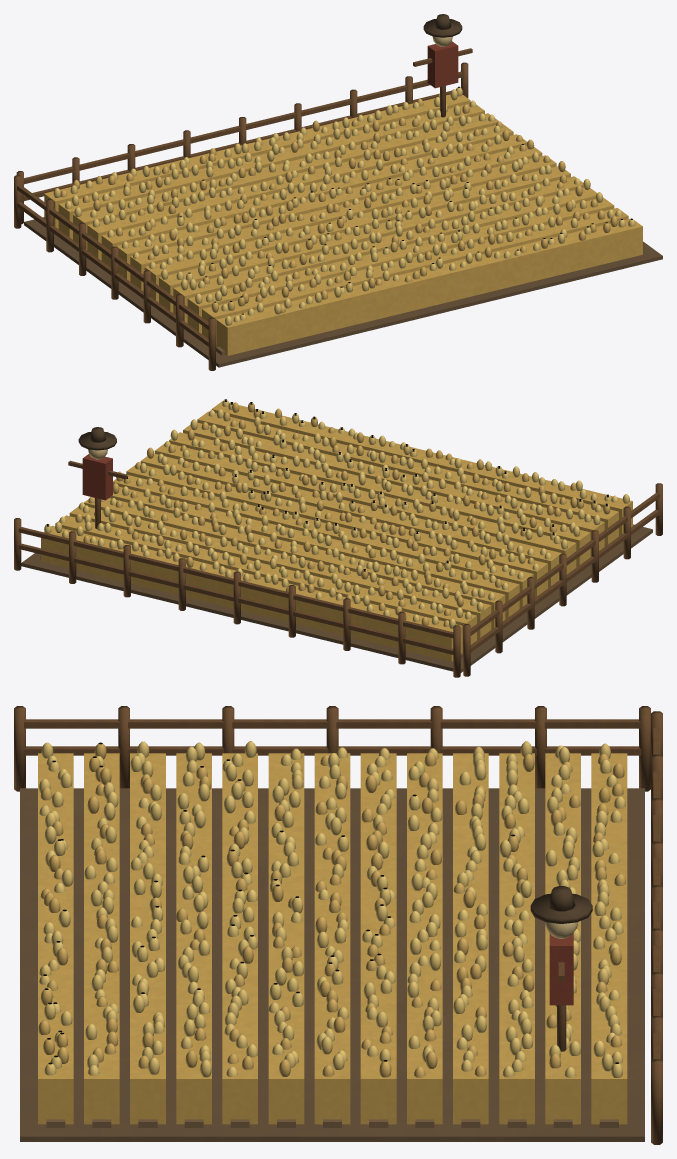
The model's file is field_ripe.glb.
3 renders of one model, top to bottom at view 1: azimuth 30°, elevation 25°; view 2: azimuth 150°, elevation 25°; view 3: azimuth 270°, elevation 25°, orthographic. The views are drawn at different scales.
Visible parts, largest first — view 1: field_ripe; view 2: field_ripe; view 3: field_ripe.
Boxes of the visible parts, x1,y1,x2,y2 form: field_ripe: (14, 14, 662, 370); field_ripe: (14, 399, 662, 677); field_ripe: (14, 706, 662, 1144).
Size of the model in its own units: 7.1 by 1.97 by 5.44.
1 material, 1 textured.
